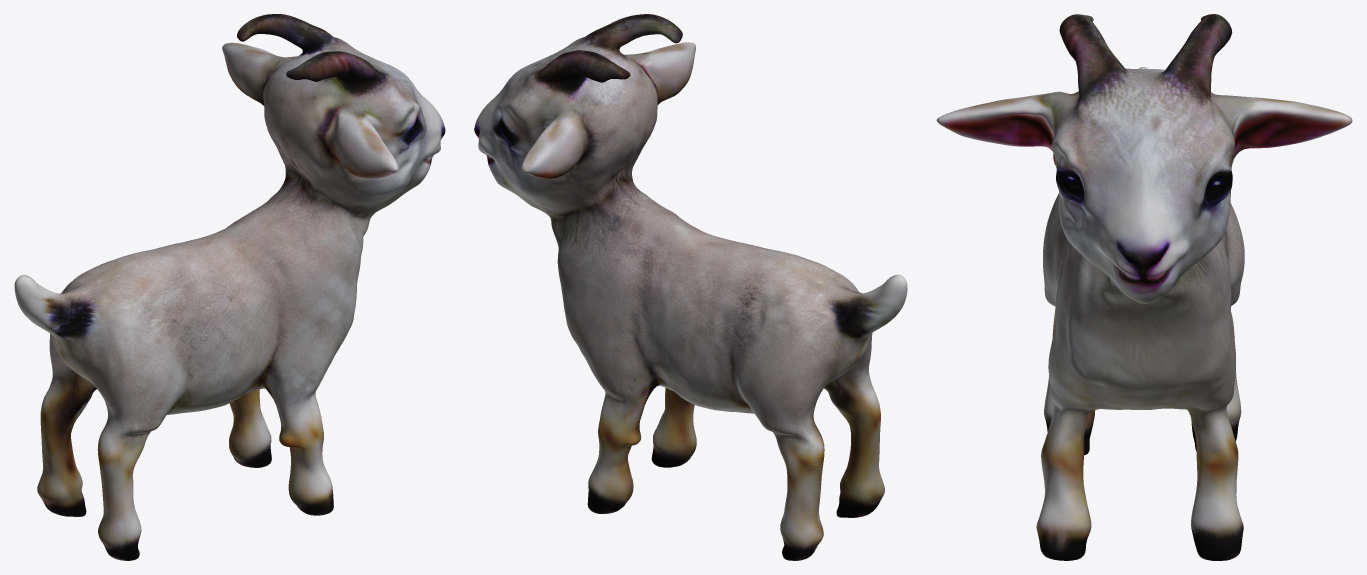
The model's file is baby_goat.glb.
3 renders of one model, left to right at view 1: azimuth 30°, elevation 25°; view 2: azimuth 150°, elevation 25°; view 3: azimuth 270°, elevation 25°, orthographic. The views are drawn at different scales.
Parts seen in each view (by area): view 1: high_poly; view 2: high_poly; view 3: high_poly.
Part boxes in pixels (bbox=[...]): high_poly: bbox=[14, 14, 445, 560]; high_poly: bbox=[474, 14, 907, 560]; high_poly: bbox=[936, 14, 1352, 560].
Size of the model in its own units: 0.986 by 1 by 0.6869.
Materials: 1 (1 with a texture image).
